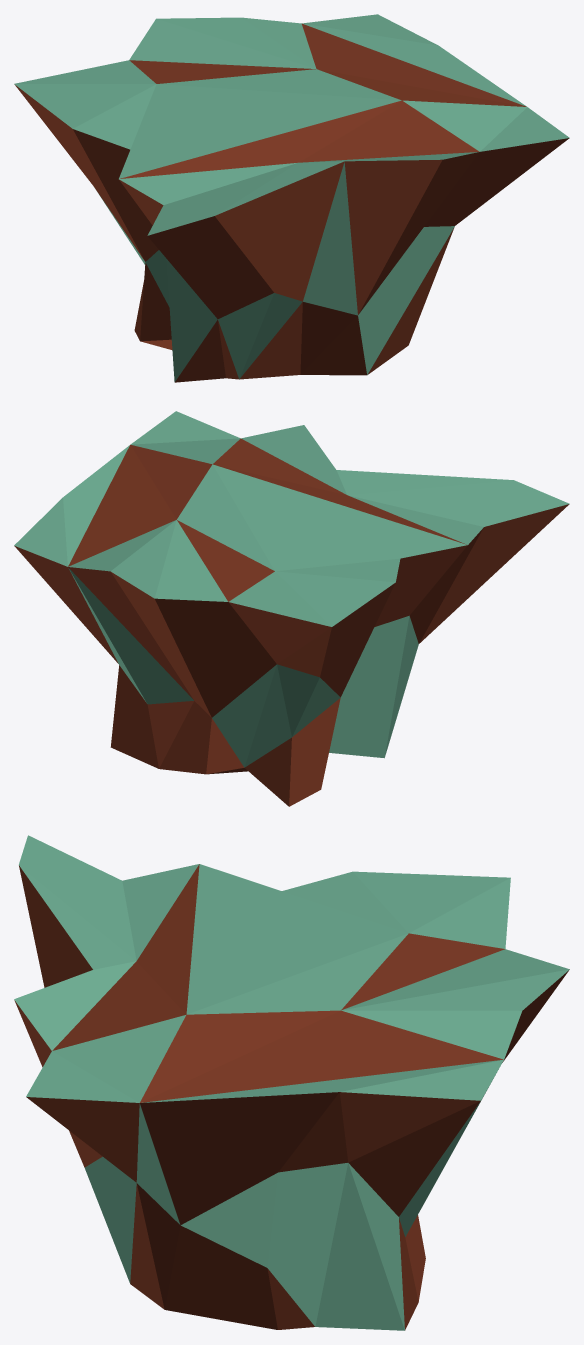
File: bloque.fbx
The picture shows the model from 3 angles, top to bottom: view 1: azimuth 30°, elevation 25°; view 2: azimuth 150°, elevation 25°; view 3: azimuth 270°, elevation 25°; orthographic projection. The views are drawn at different scales.
Parts seen in each view (by area): view 1: Bloque; view 2: Bloque; view 3: Bloque.
Boxes of the visible parts, left/top/right/bottom form: Bloque: left=14, top=14, right=569, bottom=382; Bloque: left=14, top=411, right=569, bottom=806; Bloque: left=14, top=835, right=569, bottom=1330.
Bounding box in the file's own units: 1.95 × 1.12 × 1.77.
